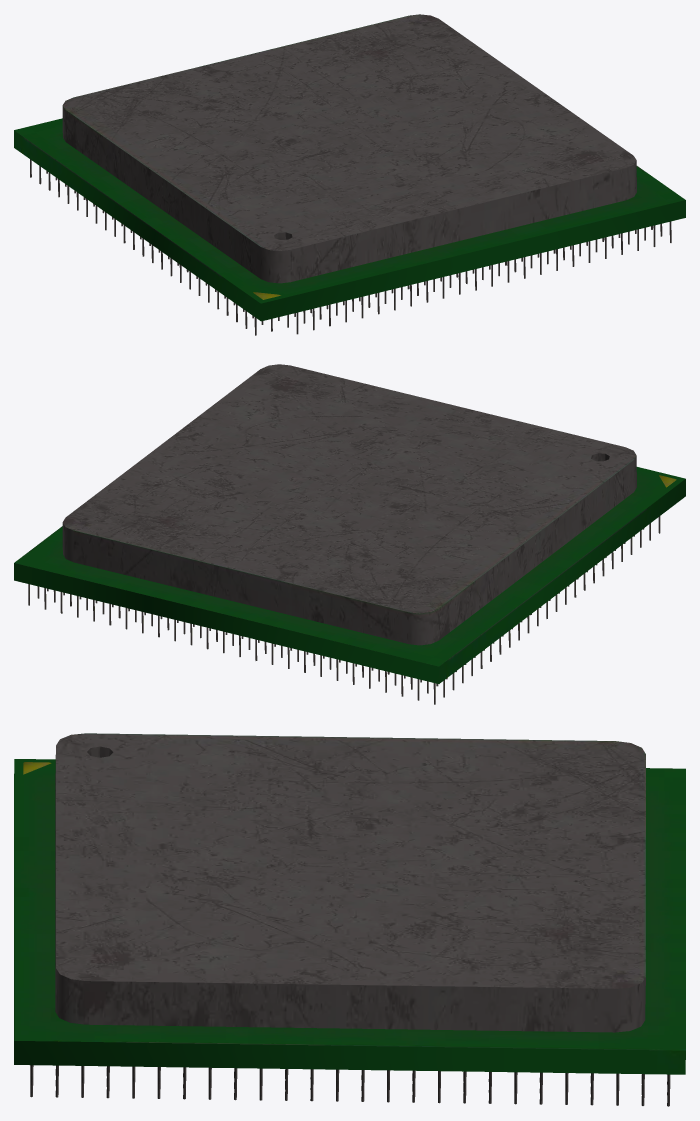
The model's file is 070-intel-pentium-4-02.glb.
3 renders of one model, top to bottom at view 1: azimuth 30°, elevation 25°; view 2: azimuth 150°, elevation 25°; view 3: azimuth 270°, elevation 25°, orthographic. The views are drawn at different scales.
Visible parts, largest first — view 1: ProcPentium_ProcPentiumMATE_0; view 2: ProcPentium_ProcPentiumMATE_0; view 3: ProcPentium_ProcPentiumMATE_0.
Boxes of the visible parts, <box> form: ProcPentium_ProcPentiumMATE_0: <box>14,14,685,335</box>; ProcPentium_ProcPentiumMATE_0: <box>14,364,685,704</box>; ProcPentium_ProcPentiumMATE_0: <box>14,733,685,1106</box>.
Size of the model in its own units: 133 by 25.16 by 134.
Materials: 1 (1 with a texture image).
